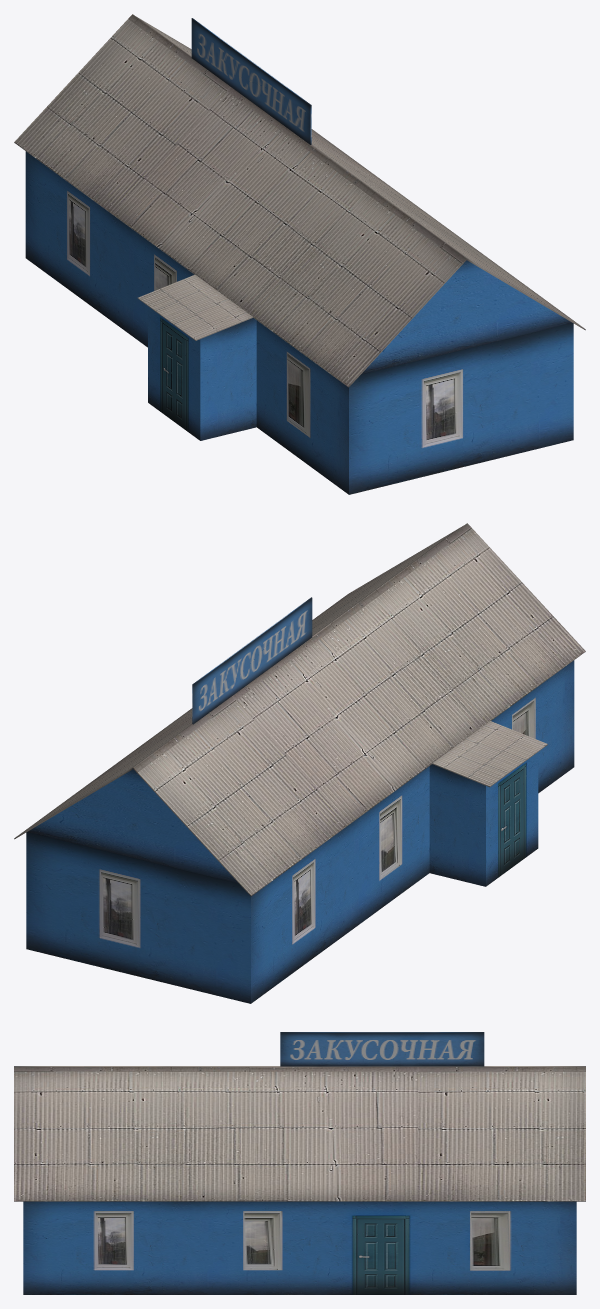
Rendered from r254_moskalenki_zakusochnaya.FBX.
The picture shows the model from 3 angles, top to bottom: view 1: azimuth 30°, elevation 25°; view 2: azimuth 150°, elevation 25°; view 3: azimuth 270°, elevation 25°; orthographic projection. The views are drawn at different scales.
Parts seen in each view (by area): view 1: r254_moskalenki_zakusochnaya; view 2: r254_moskalenki_zakusochnaya; view 3: r254_moskalenki_zakusochnaya.
Part boxes in pixels (bbox=[...]): r254_moskalenki_zakusochnaya: bbox=[14, 14, 585, 494]; r254_moskalenki_zakusochnaya: bbox=[14, 523, 585, 1003]; r254_moskalenki_zakusochnaya: bbox=[14, 1032, 585, 1294].
Bounding box in the file's own units: 6.57 × 12.9 × 5.37.
